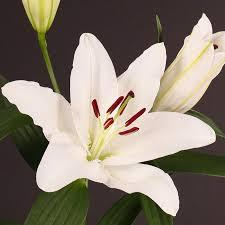lily: (4, 34, 217, 221)
